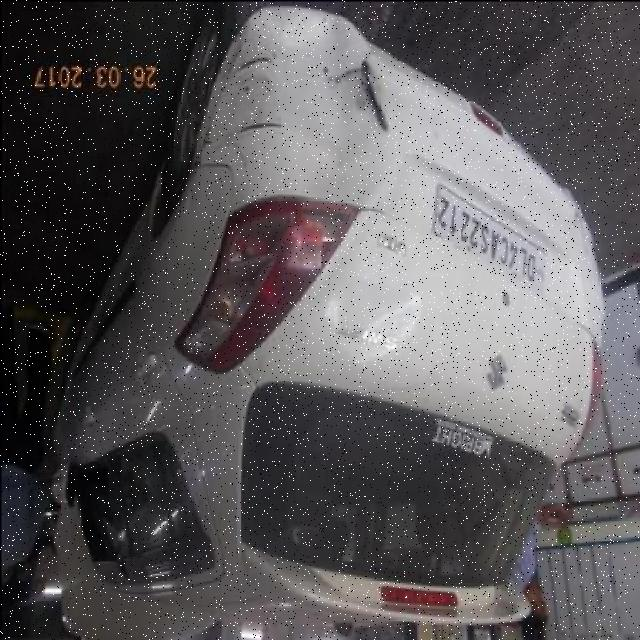damage: (270, 10, 369, 169), (313, 263, 422, 361), (197, 34, 242, 160), (357, 48, 391, 137), (201, 114, 282, 151), (231, 51, 270, 73)
